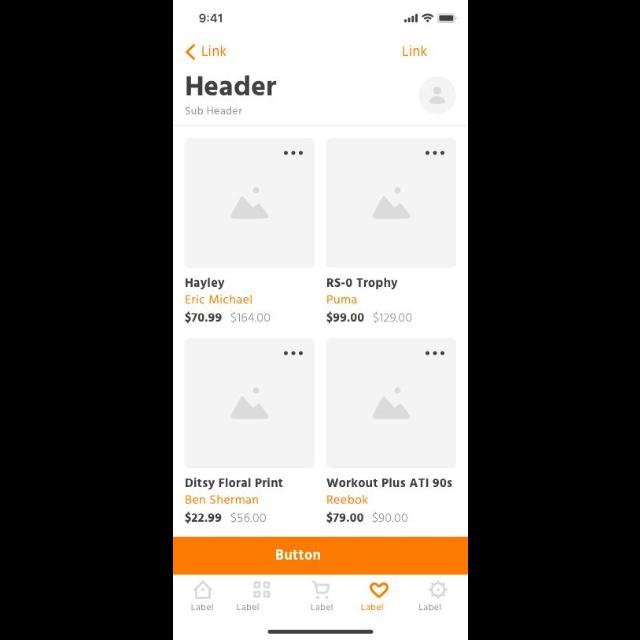icon: (417, 77, 455, 115), (192, 581, 212, 599), (428, 581, 447, 599), (311, 581, 329, 599), (253, 580, 270, 598), (370, 583, 388, 599), (186, 45, 197, 61), (424, 150, 446, 156), (424, 350, 444, 356), (284, 150, 302, 156), (284, 350, 302, 356)
image: (184, 139, 314, 269), (326, 139, 456, 269), (185, 338, 315, 468), (326, 339, 456, 469)
text: (184, 76, 276, 96), (326, 478, 452, 488), (185, 478, 283, 489), (327, 277, 397, 289), (185, 495, 259, 505), (184, 294, 252, 304), (185, 106, 243, 116), (185, 278, 225, 290), (230, 312, 270, 324), (327, 494, 367, 506), (325, 312, 363, 324), (325, 512, 363, 524), (370, 512, 408, 524), (230, 512, 266, 524), (326, 294, 358, 306), (184, 312, 222, 322), (373, 313, 411, 323), (183, 512, 220, 522), (402, 45, 426, 57), (202, 46, 226, 56), (418, 603, 442, 611), (190, 603, 213, 611), (237, 603, 260, 611), (309, 604, 333, 610), (361, 604, 384, 610)
textbutton: (173, 538, 467, 574)
uppertaskbar: (198, 14, 456, 24)
